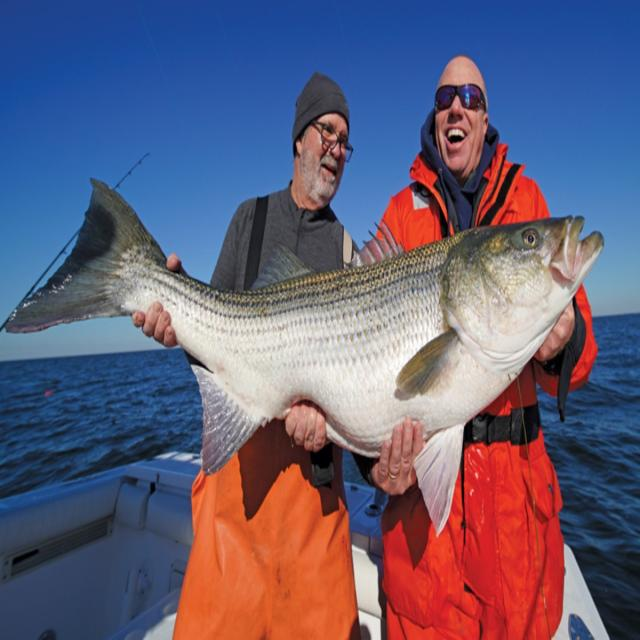Bass - Striped: (8, 180, 603, 534)
